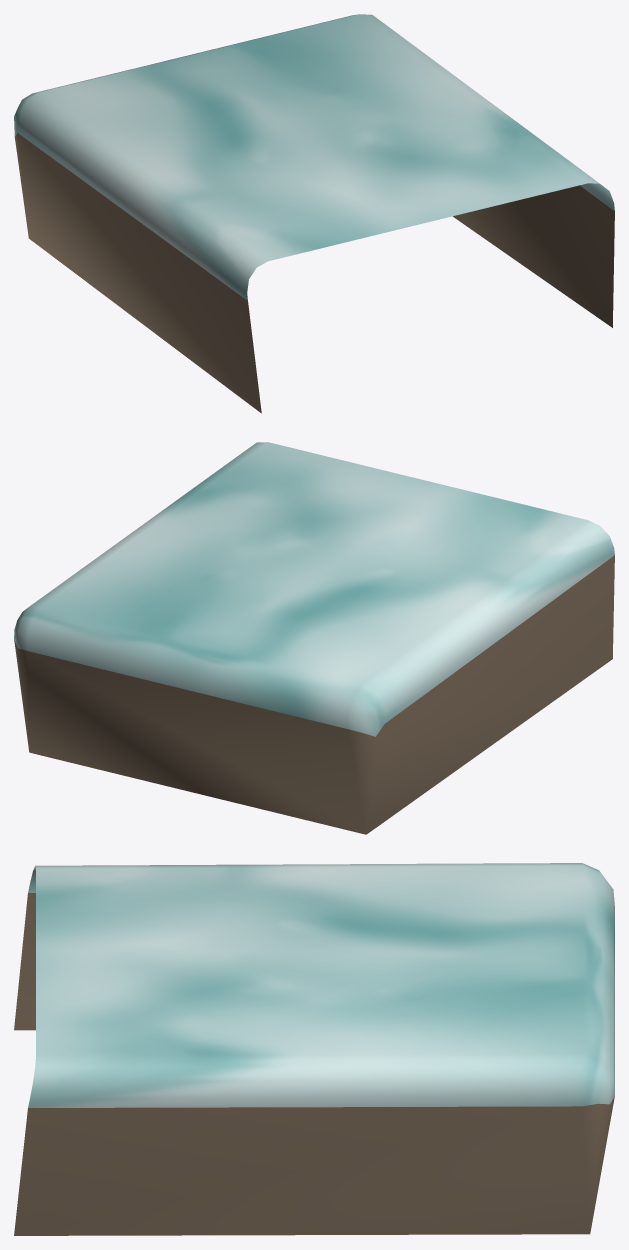
The model's file is SnowCliff.fbx.
3 renders of one model, top to bottom at view 1: azimuth 30°, elevation 25°; view 2: azimuth 150°, elevation 25°; view 3: azimuth 270°, elevation 25°, orthographic. The views are drawn at different scales.
Visible parts, largest first — view 1: SnowCliff; view 2: SnowCliff; view 3: SnowCliff.
Boxes of the visible parts, left/top/right/bottom form: SnowCliff: left=14, top=14, right=614, bottom=413; SnowCliff: left=14, top=442, right=614, bottom=834; SnowCliff: left=14, top=863, right=614, bottom=1235.
Size of the model in its own units: 63.4 by 74.86 by 24.12.
